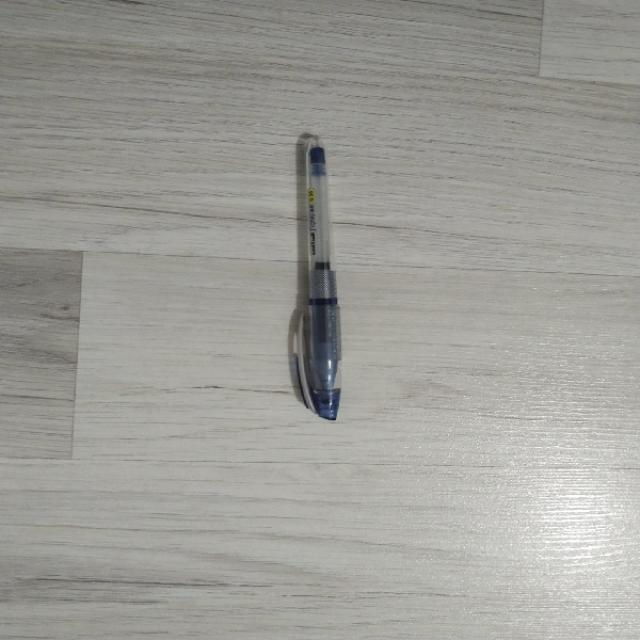pen: (298, 137, 341, 420)
